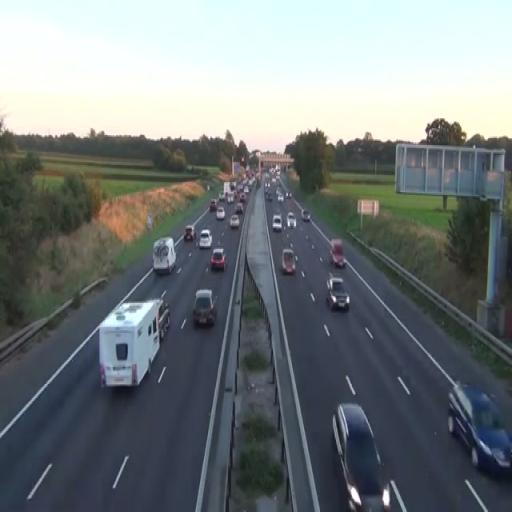Car: (332, 401, 390, 512), (448, 382, 512, 478), (192, 289, 218, 327), (326, 274, 350, 312), (210, 248, 227, 272), (282, 248, 296, 275), (199, 229, 212, 249), (272, 214, 282, 233), (184, 225, 196, 240), (230, 214, 239, 230), (216, 206, 226, 220)
Truck: (98, 290, 172, 388), (152, 236, 176, 275)
